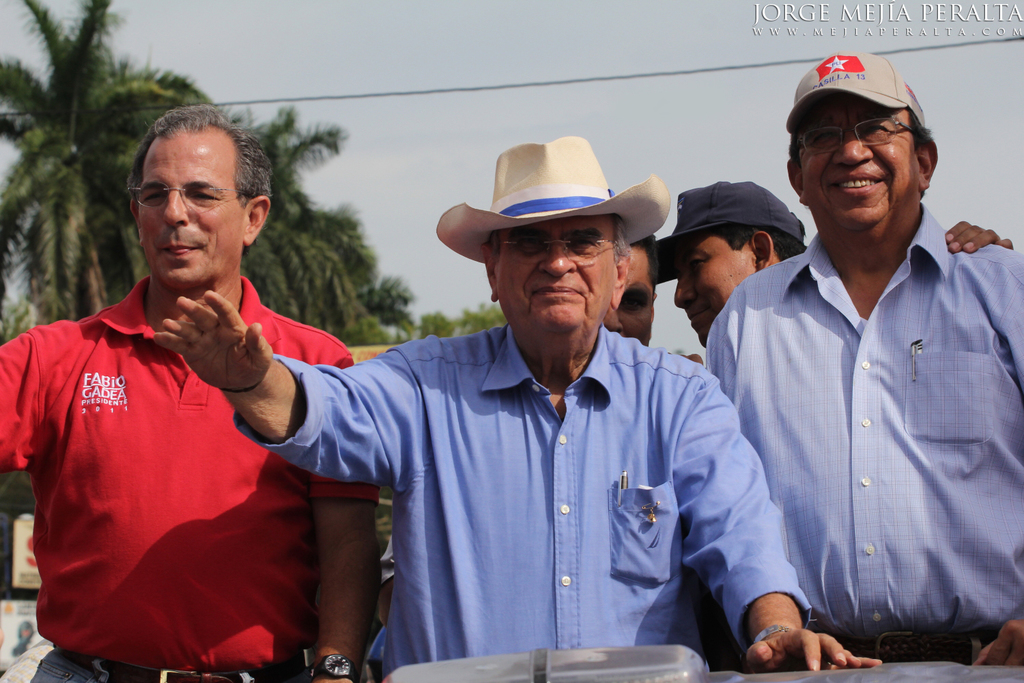Human-face: (134, 132, 246, 285), (799, 103, 916, 236), (493, 214, 612, 332), (673, 236, 752, 350), (603, 249, 653, 345)
